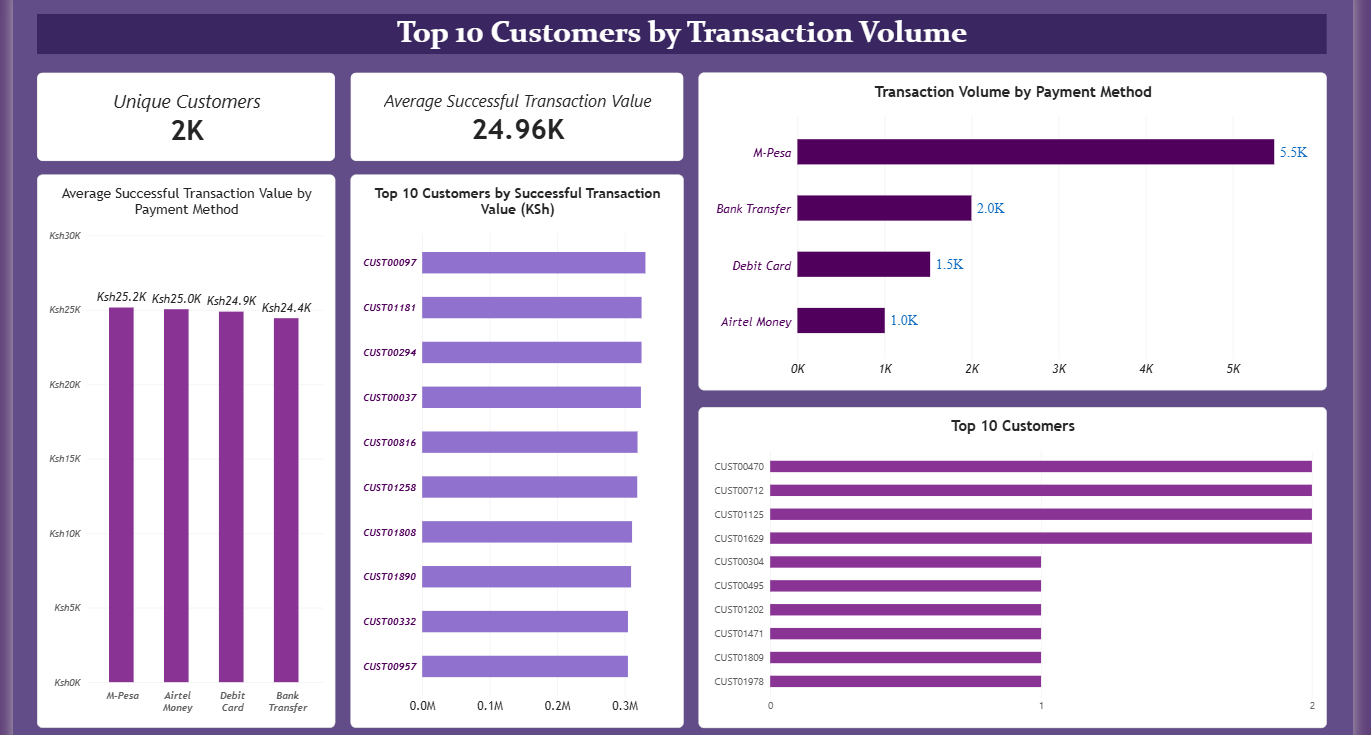

The dashboard page shown, as its layout file describes it:
{"tool":"powerbi","page":{"name":"Customer Analysis","canvas":[1920,1080],"ordinal":2},"visuals":[{"type":"cardVisual","fields":{"Data":["financial_transactions_powerbi.Unique Customers"]},"box":[35,117.5,427.5,127.5],"z":0},{"type":"cardVisual","fields":{"Data":["financial_transactions_powerbi.Average Successful Transaction Value"]},"box":[482.5,117.5,477.5,127.5],"z":1000},{"type":"clusteredBarChart","title":"Top 10 Customers","fields":{"Category":["financial_transactions_powerbi.customer_id"],"Y":["CountNonNull(financial_transactions_powerbi.transaction_id)"]},"box":[982.5,597.5,900,460],"z":2000},{"type":"textbox","box":[35,35,1847.5,57.5],"z":2001},{"type":"clusteredBarChart","title":"Transaction Volume by Payment Method","fields":{"Category":["financial_transactions_powerbi.payment_method"],"Y":["CountNonNull(financial_transactions_powerbi.transaction_id)"]},"box":[982.5,117.5,900,455],"z":2002},{"type":"clusteredBarChart","title":"Top 10 Customers by Successful Transaction Value (KSh)","fields":{"Category":["financial_transactions_powerbi.customer_id"],"Y":["financial_transactions_powerbi.Customer Successful Transaction Value"]},"box":[482.5,265,477.5,792.5],"z":2003},{"type":"clusteredColumnChart","title":"Average Successful Transaction Value by Payment Method","fields":{"Category":["financial_transactions_powerbi.payment_method"],"Y":["financial_transactions_powerbi.Average Successful Transaction by Payment Method"]},"box":[35,265,427.5,792.5],"z":2004}]}

Visuals, with their boxes in screenshot pixels (x1, y1, x2, y2):
cardVisual - financial_transactions_powerbi.Unique Customers: [left=35, top=68, right=333, bottom=156]
cardVisual - financial_transactions_powerbi.Average Successful Transaction Value: [left=347, top=68, right=679, bottom=156]
"Top 10 Customers" clusteredBarChart: [left=695, top=402, right=1321, bottom=722]
textbox: [left=35, top=10, right=1321, bottom=50]
"Transaction Volume by Payment Method" clusteredBarChart: [left=695, top=68, right=1321, bottom=384]
"Top 10 Customers by Successful Transaction Value (KSh)" clusteredBarChart: [left=347, top=170, right=679, bottom=722]
"Average Successful Transaction Value by Payment Method" clusteredColumnChart: [left=35, top=170, right=333, bottom=722]
